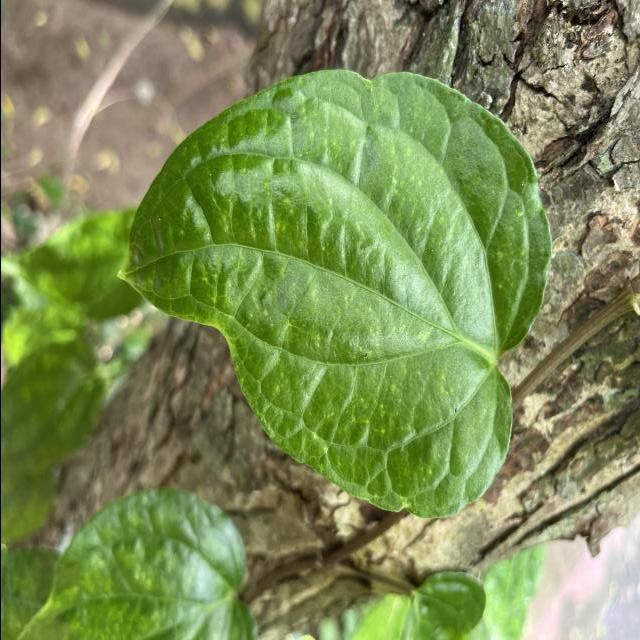Piper betle: (111, 66, 554, 524)
